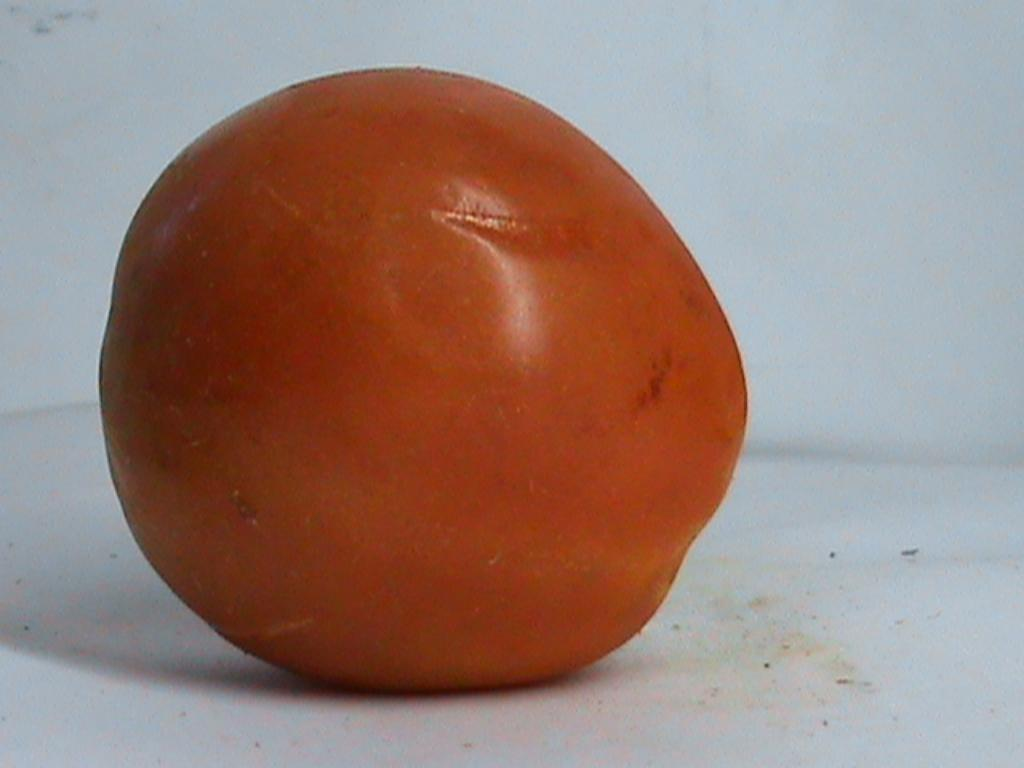surface_damage: (428, 207, 591, 226), (638, 350, 670, 408)
tomato: (101, 70, 744, 686)
